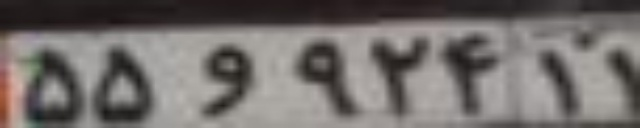1: (537, 48, 581, 113), (599, 45, 638, 117)
2: (367, 32, 431, 115)
4: (440, 33, 501, 117)
5: (20, 48, 80, 122), (96, 46, 153, 120)
9: (285, 36, 360, 116)
vav: (181, 43, 262, 118)
